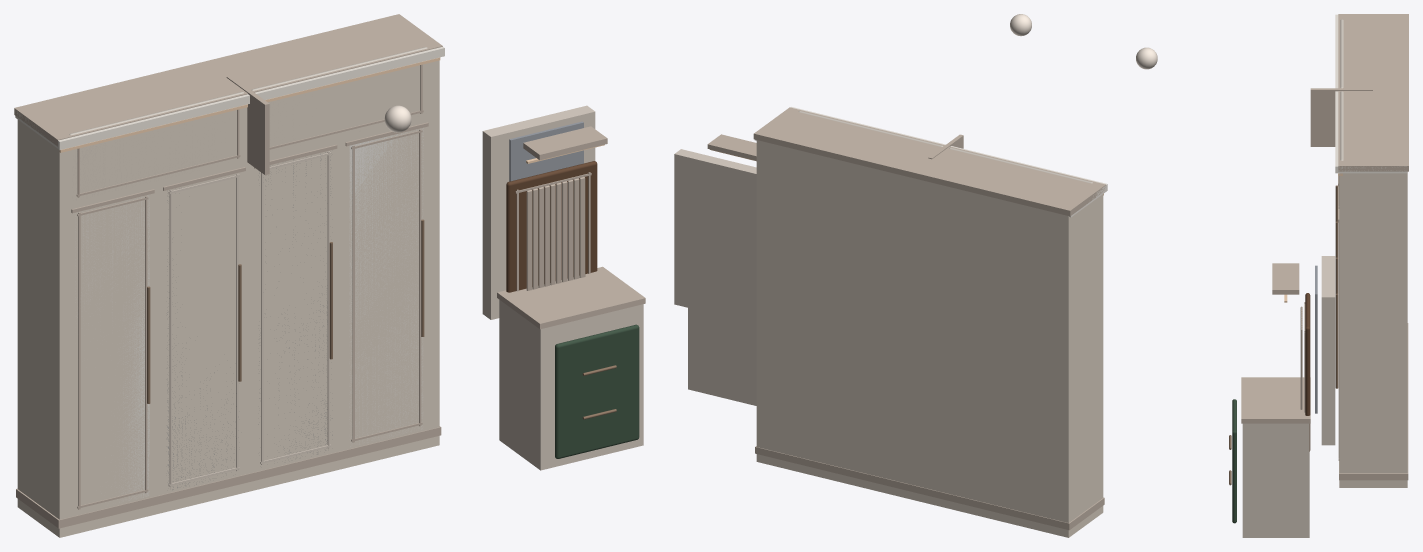
File: wardrobe-suite.glb
3 views of the same model, side by side, from view 1: azimuth 30°, elevation 25°; view 2: azimuth 150°, elevation 25°; view 3: azimuth 270°, elevation 25° (orthographic). The views are drawn at different scales.
Parts seen in each view (by area): view 1: wardrobe-body, wardrobe-top-cap, vanity-body, wardrobe-vanity-drawers, wardrobe-right-door, vanity-side-shell, wardrobe-vanity-panel, vanity-counter, top-led-lip, wardrobe-shadow-line, wardrobe-left-door, mirror-panel (+11 smaller); view 2: wardrobe-body, vanity-side-shell, wardrobe-top-cap, vanity-body, wardrobe-shadow-line, display-niche-base, top-led-lip; view 3: wardrobe-body, wardrobe-top-cap, vanity-body, vanity-counter, vanity-side-shell, loft-divider, display-niche-base, top-led-lip, wardrobe-shadow-line, wardrobe-vanity-panel, wardrobe-vanity-drawers, wardrobe-right-door-detail-right (+3 smaller).
Boxes of the visible parts, x1=… form: wardrobe-body: x1=17, y1=60, x2=439, y2=537; wardrobe-top-cap: x1=14, y1=14, x2=442, y2=146; vanity-body: x1=499, y1=300, x2=643, y2=470; wardrobe-vanity-drawers: x1=555, y1=324, x2=639, y2=458; wardrobe-right-door: x1=349, y1=128, x2=423, y2=446; vanity-side-shell: x1=482, y1=105, x2=595, y2=319; wardrobe-vanity-panel: x1=506, y1=161, x2=597, y2=292; vanity-counter: x1=497, y1=266, x2=645, y2=329; top-led-lip: x1=15, y1=46, x2=444, y2=149; wardrobe-shadow-line: x1=16, y1=426, x2=441, y2=528; wardrobe-left-door: x1=75, y1=195, x2=149, y2=502; mirror-panel: x1=509, y1=121, x2=583, y2=181; wardrobe-body: x1=756, y1=140, x2=1103, y2=537; vanity-side-shell: x1=674, y1=149, x2=756, y2=324; wardrobe-top-cap: x1=753, y1=107, x2=1105, y2=216; vanity-body: x1=688, y1=308, x2=756, y2=405; wardrobe-shadow-line: x1=755, y1=446, x2=1104, y2=530; display-niche-base: x1=707, y1=134, x2=756, y2=160; top-led-lip: x1=755, y1=107, x2=1107, y2=217; wardrobe-body: x1=1339, y1=171, x2=1407, y2=487; wardrobe-top-cap: x1=1338, y1=14, x2=1408, y2=171; vanity-body: x1=1242, y1=423, x2=1309, y2=537; vanity-counter: x1=1241, y1=377, x2=1310, y2=423; vanity-side-shell: x1=1321, y1=256, x2=1335, y2=445; loft-divider: x1=1310, y1=88, x2=1372, y2=146; display-niche-base: x1=1272, y1=263, x2=1299, y2=294; top-led-lip: x1=1335, y1=14, x2=1406, y2=173; wardrobe-shadow-line: x1=1339, y1=323, x2=1408, y2=480; wardrobe-vanity-panel: x1=1305, y1=293, x2=1310, y2=451; wardrobe-vanity-drawers: x1=1232, y1=399, x2=1236, y2=523; wardrobe-right-door-detail-right: x1=1338, y1=224, x2=1339, y2=458.
Size of the model in its own units: 8.09 by 6.81 by 4.48.
